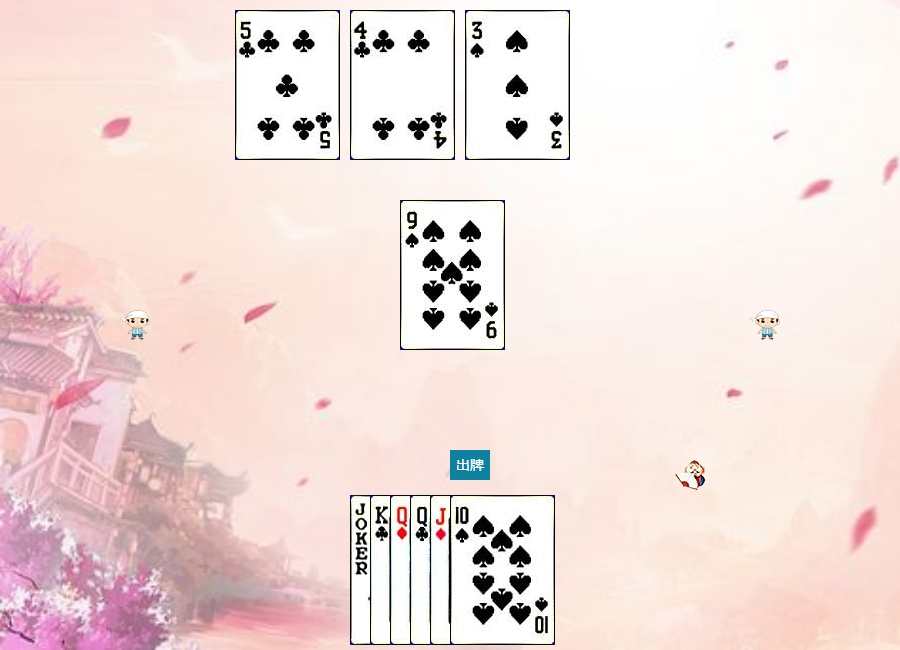10~4: (450, 495, 555, 645)
11~1: (430, 495, 535, 645)
12~1: (390, 495, 495, 645)
12~2: (410, 495, 515, 645)
13~2: (370, 495, 475, 645)
17~3: (350, 495, 455, 645)
3~4: (465, 10, 570, 160)
4~2: (350, 10, 455, 160)
5~2: (235, 10, 340, 160)
9~4: (400, 200, 505, 350)
